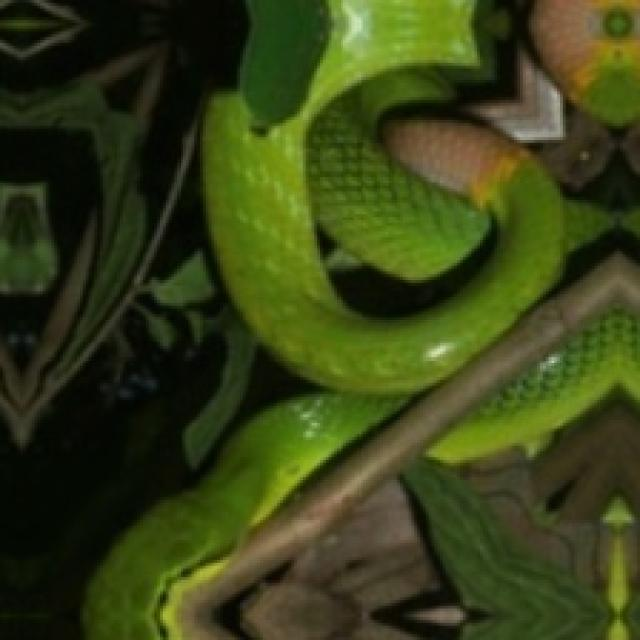red-tailed green ratsnake: (90, 0, 600, 639), (430, 312, 640, 461)
